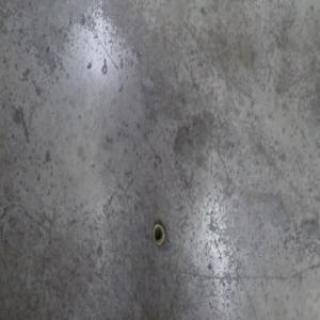Nuttrack_idkeyframe: (150, 220, 165, 248)
